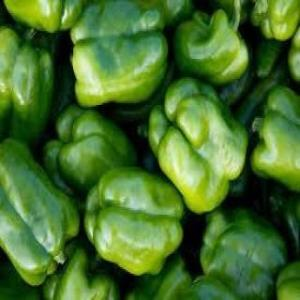bell_pepper: (148, 73, 250, 219), (80, 162, 186, 278), (40, 105, 140, 207)
